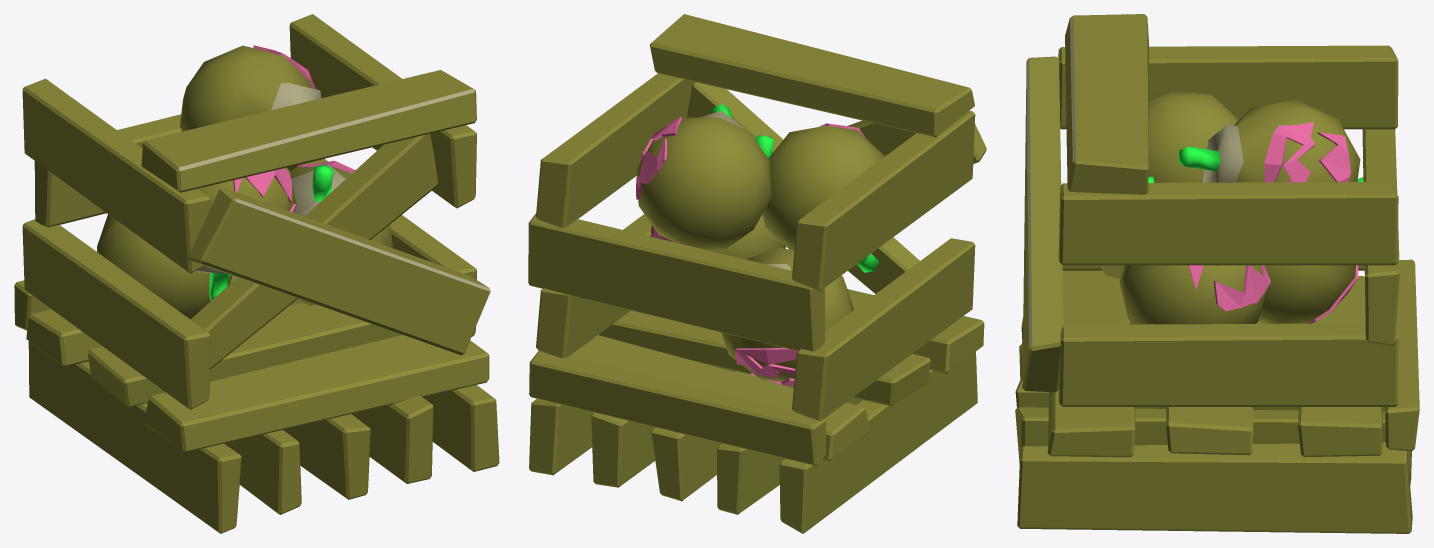
The model's file is BombCrate.fbx.
3 renders of one model, left to right at view 1: azimuth 30°, elevation 25°; view 2: azimuth 150°, elevation 25°; view 3: azimuth 270°, elevation 25°, orthographic. The views are drawn at different scales.
Parts seen in each view (by area): view 1: Resource Crate.001; view 2: Resource Crate.001; view 3: Resource Crate.001.
Part boxes in pixels (<box>): Resource Crate.001: <box>14,14,499,533</box>; Resource Crate.001: <box>528,14,986,533</box>; Resource Crate.001: <box>1015,14,1419,533</box>.
Bounding box in the file's own units: 195 × 212 × 208.
